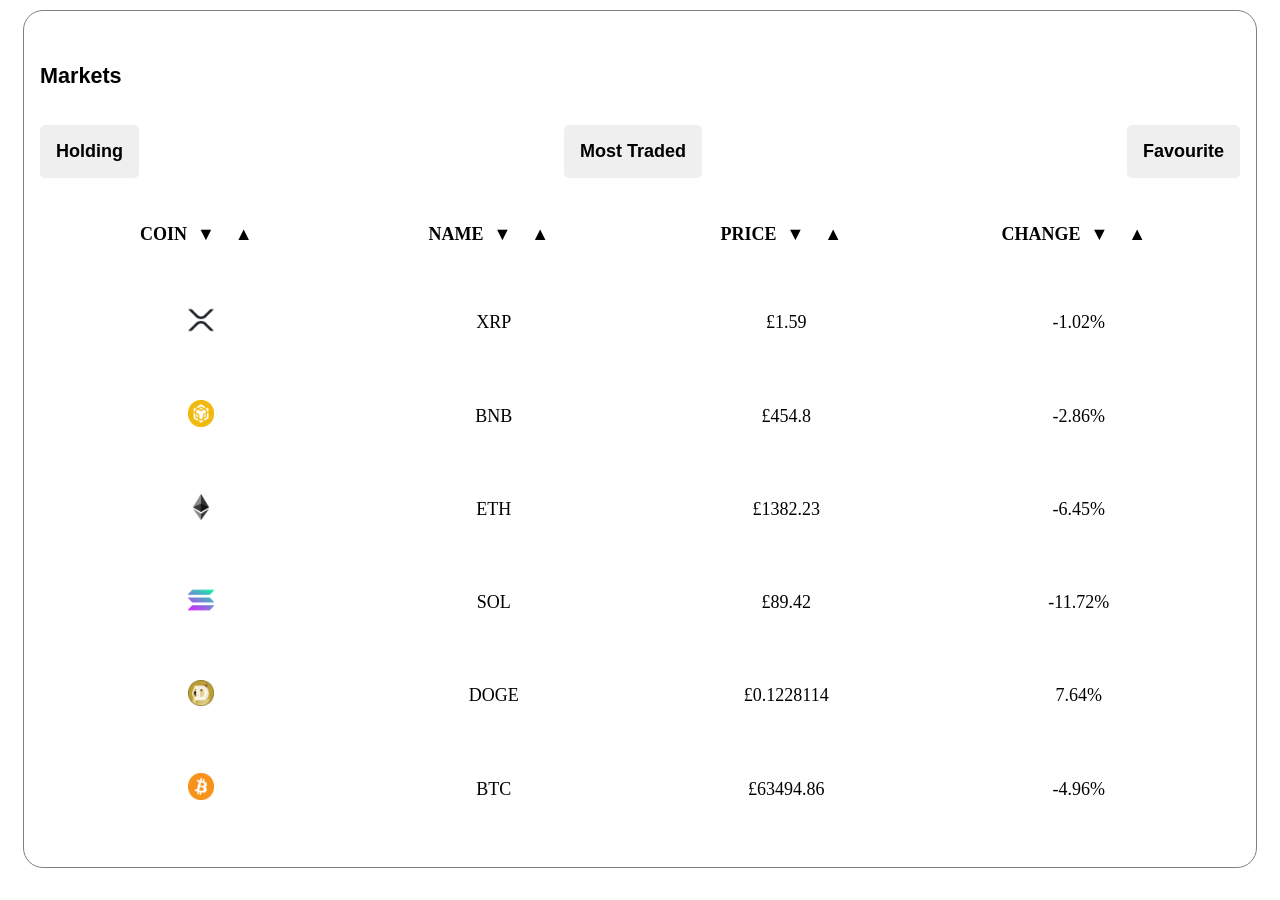
Test: Do the market top navigation buttons work test 1 › If Holding button shows text in container when clicked
Click the button "holding" at (90, 152), box [40, 125, 139, 178]
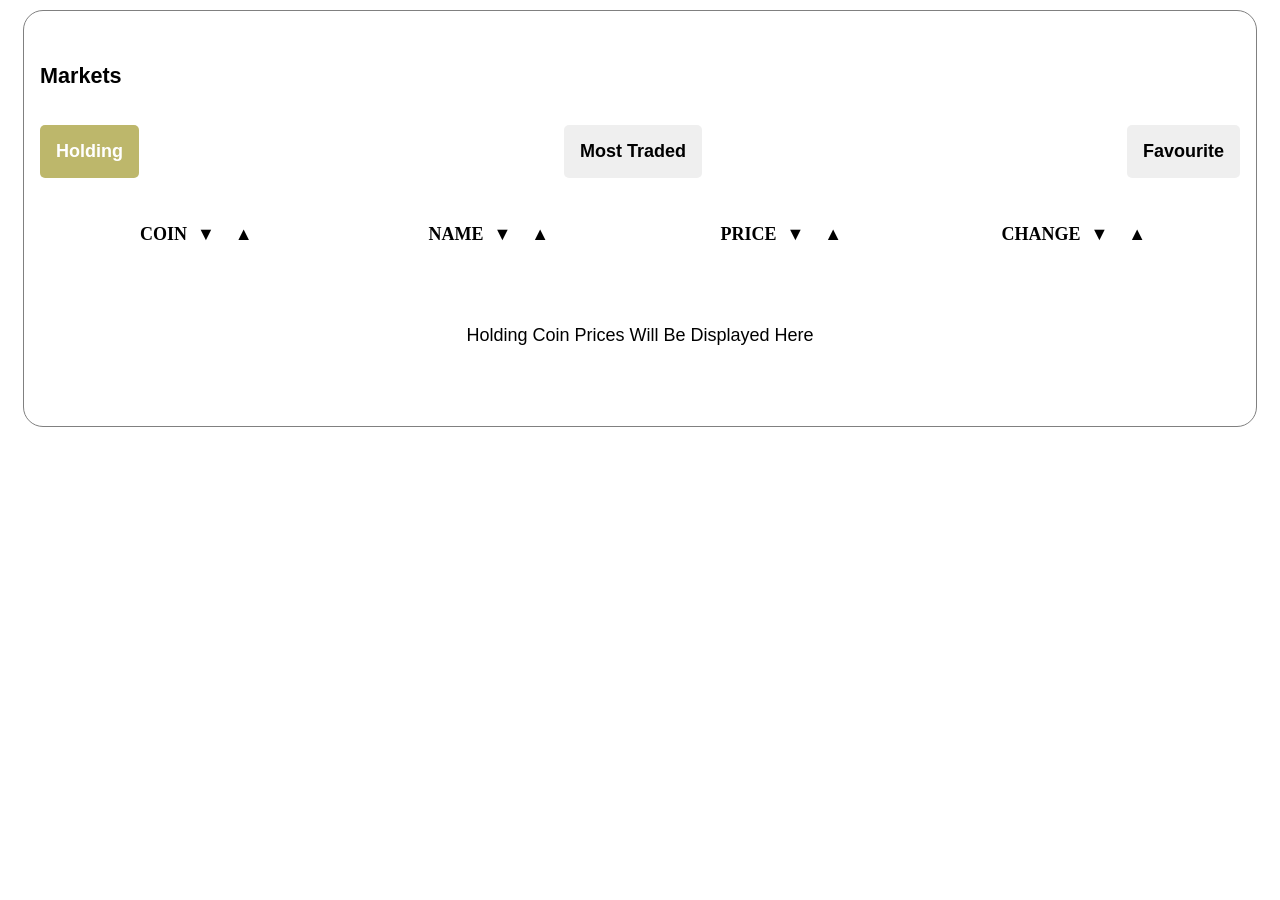
Now the text "Holding coin prices will be displayed here" is shown, box [466, 325, 814, 345]
